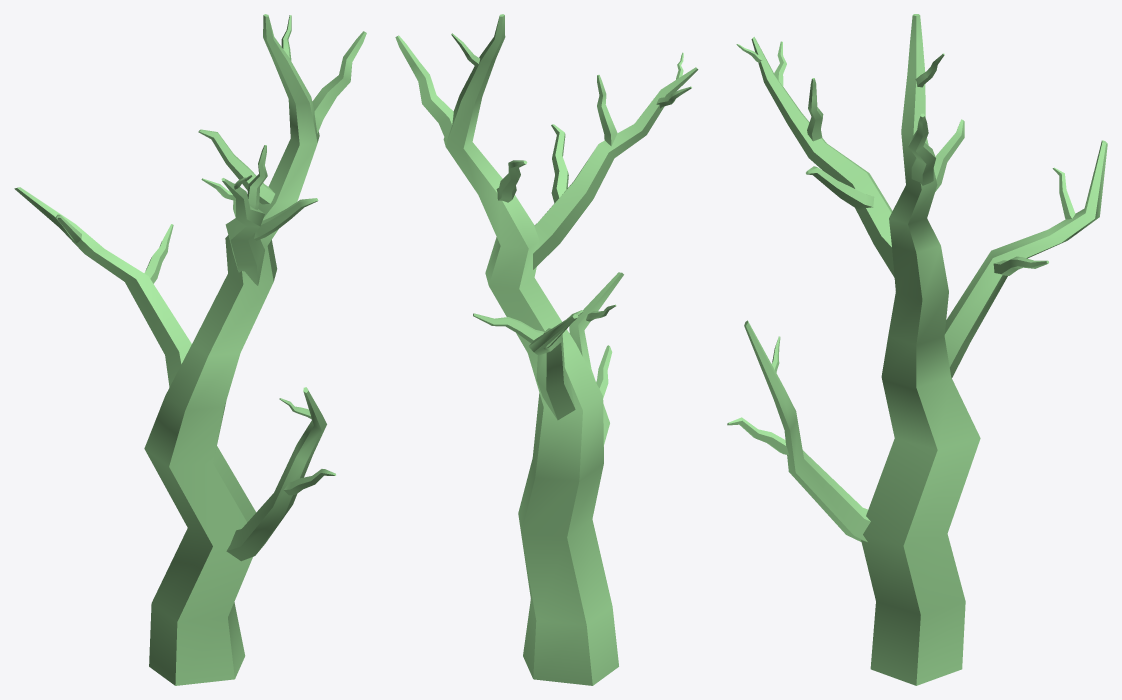
The model's file is TreeVariation2.fbx.
3 views of the same model, side by side, from view 1: azimuth 30°, elevation 25°; view 2: azimuth 150°, elevation 25°; view 3: azimuth 270°, elevation 25° (orthographic). The views are drawn at different scales.
Visible parts, largest first — view 1: pCylinder77, pCylinder86, pCylinder89, pCylinder78, pCylinder79, pCylinder84, pCylinder85, pCylinder81, pCylinder88; view 2: pCylinder77, pCylinder78, pCylinder86, pCylinder79, pCylinder89, pCylinder85, pCylinder88, pCylinder84, pCylinder81; view 3: pCylinder77, pCylinder86, pCylinder78, pCylinder89, pCylinder79, pCylinder85, pCylinder84, pCylinder87, pCylinder81, pCylinder88.
Part boxes in pixels (bbox=[...]): pCylinder77: bbox=[144, 14, 319, 685]; pCylinder86: bbox=[14, 187, 191, 387]; pCylinder89: bbox=[226, 387, 326, 561]; pCylinder78: bbox=[221, 178, 264, 285]; pCylinder79: bbox=[312, 31, 366, 133]; pCylinder84: bbox=[198, 129, 274, 204]; pCylinder85: bbox=[254, 198, 318, 240]; pCylinder81: bbox=[247, 145, 267, 209]; pCylinder88: bbox=[144, 224, 173, 283]; pCylinder77: bbox=[443, 14, 618, 685]; pCylinder78: bbox=[533, 67, 698, 269]; pCylinder86: bbox=[528, 314, 578, 420]; pCylinder79: bbox=[395, 35, 453, 140]; pCylinder89: bbox=[569, 272, 623, 445]; pCylinder85: bbox=[551, 124, 568, 203]; pCylinder88: bbox=[473, 313, 544, 343]; pCylinder84: bbox=[496, 160, 527, 202]; pCylinder81: bbox=[597, 75, 617, 146]; pCylinder77: bbox=[861, 14, 980, 685]; pCylinder86: bbox=[944, 140, 1107, 377]; pCylinder78: bbox=[751, 37, 894, 277]; pCylinder89: bbox=[744, 320, 870, 541]; pCylinder79: bbox=[908, 113, 935, 185]; pCylinder85: bbox=[806, 166, 874, 210]; pCylinder84: bbox=[933, 119, 964, 191]; pCylinder87: bbox=[727, 417, 788, 455]; pCylinder81: bbox=[807, 78, 823, 141]; pCylinder88: bbox=[993, 256, 1048, 275].
Size of the model in its own units: 1.94 by 4.4 by 2.23.
